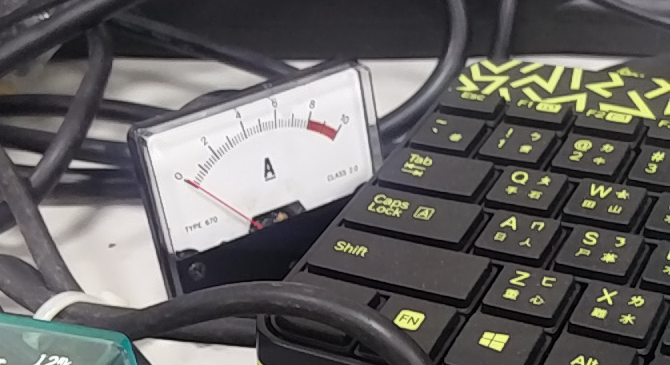Amp_Meter: (139, 56, 376, 263)
